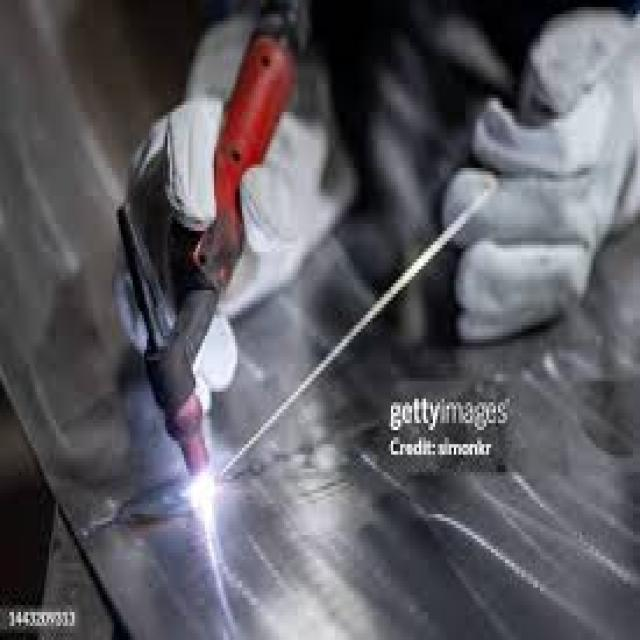welding: (187, 469, 220, 506)
